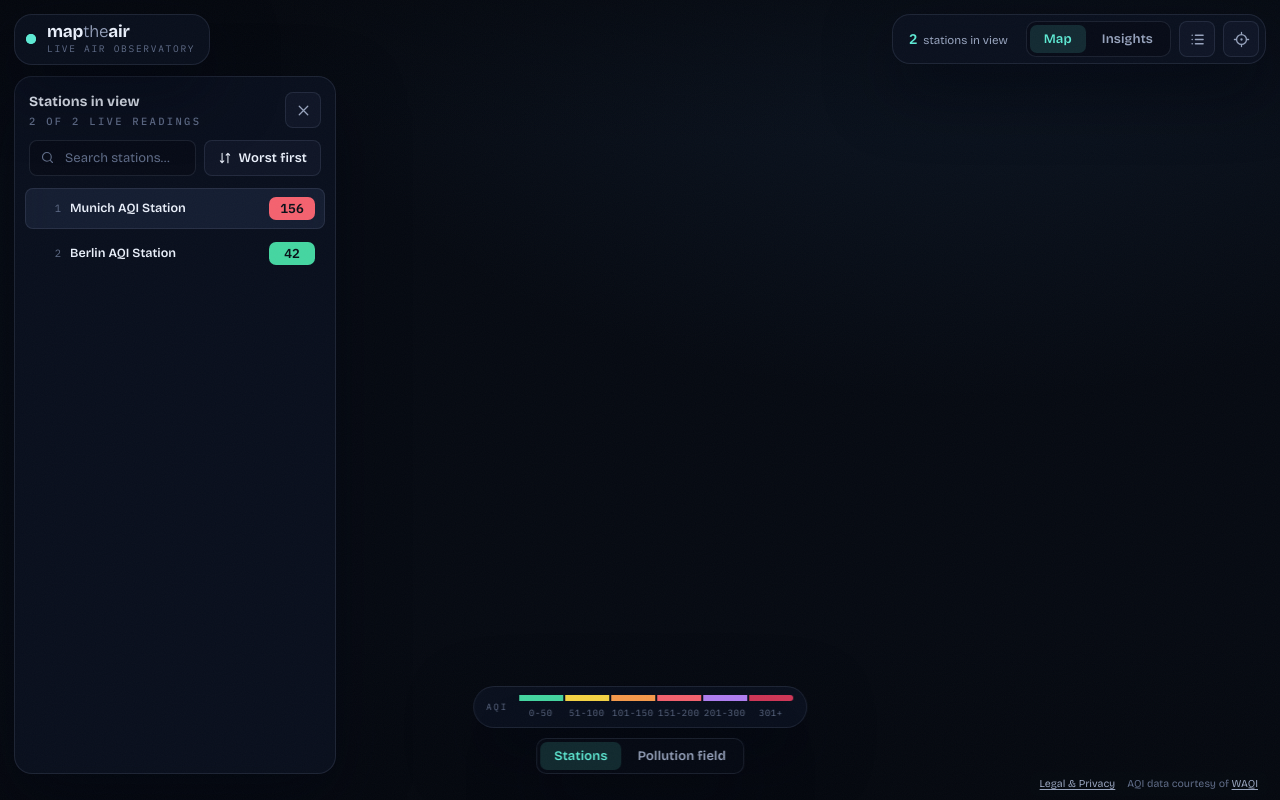
Scenario: switches to the insights view
Expected: the text "Berlin AQI Station" is shown, [70,245,176,260]
Click the button "Insights" at (1127, 40), box [1088,26,1167,54]
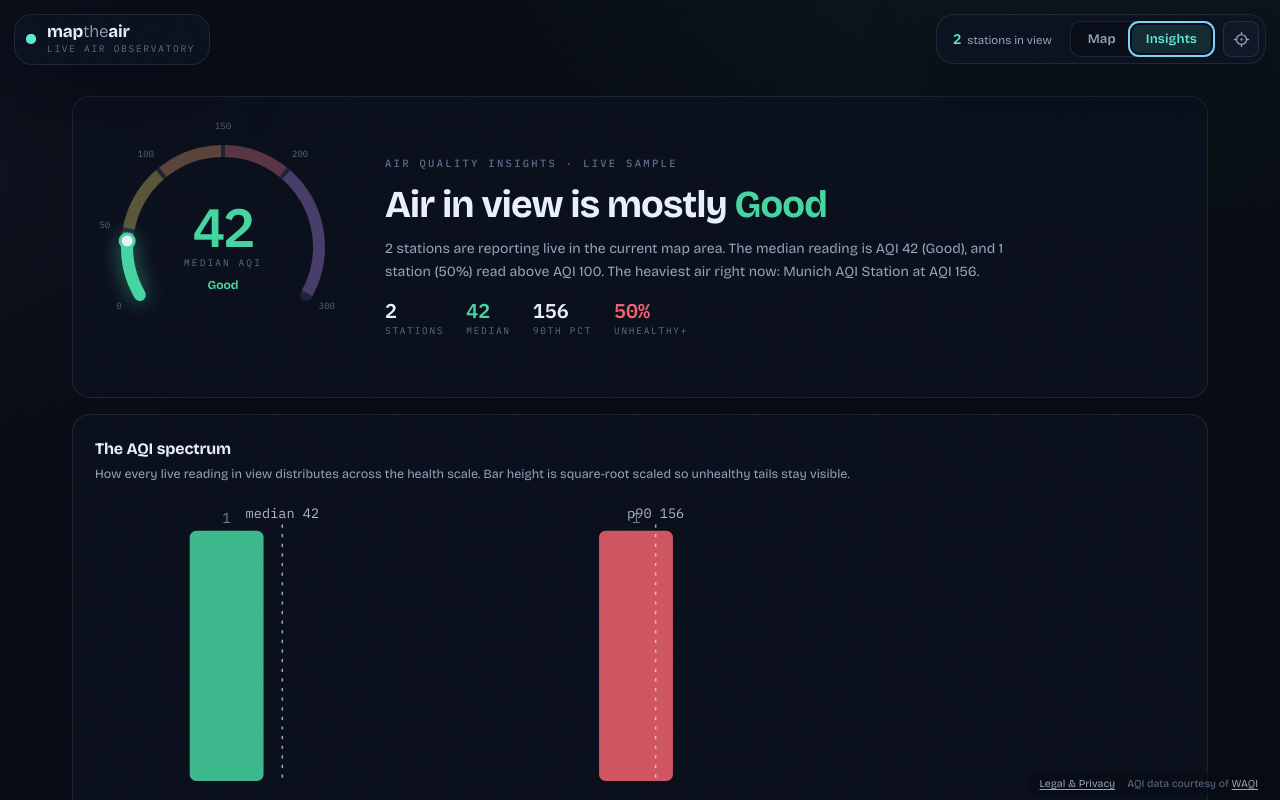
Expected: the heading "Air in view is mostly Good" is shown, [385,182,827,227]
Expected: the heading "The AQI spectrum" is shown, [95,439,231,458]
